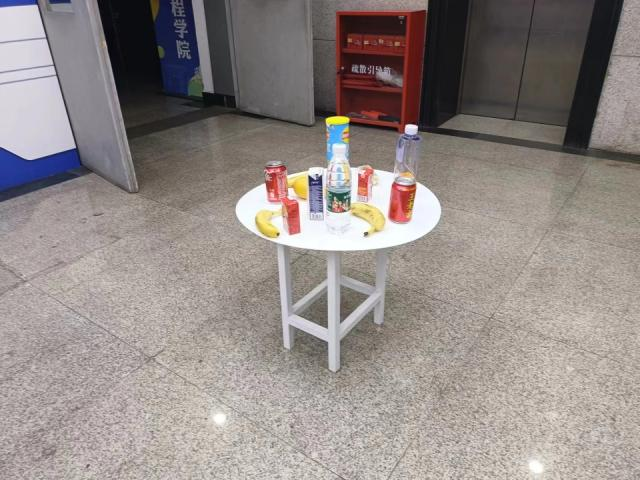Canned_drinks: (387, 177, 417, 224), (262, 160, 290, 203)
bottle: (326, 142, 353, 236), (393, 123, 424, 199)
cylinder: (324, 115, 352, 181)
drink_box: (307, 166, 325, 222), (280, 195, 302, 235), (356, 168, 374, 203)
